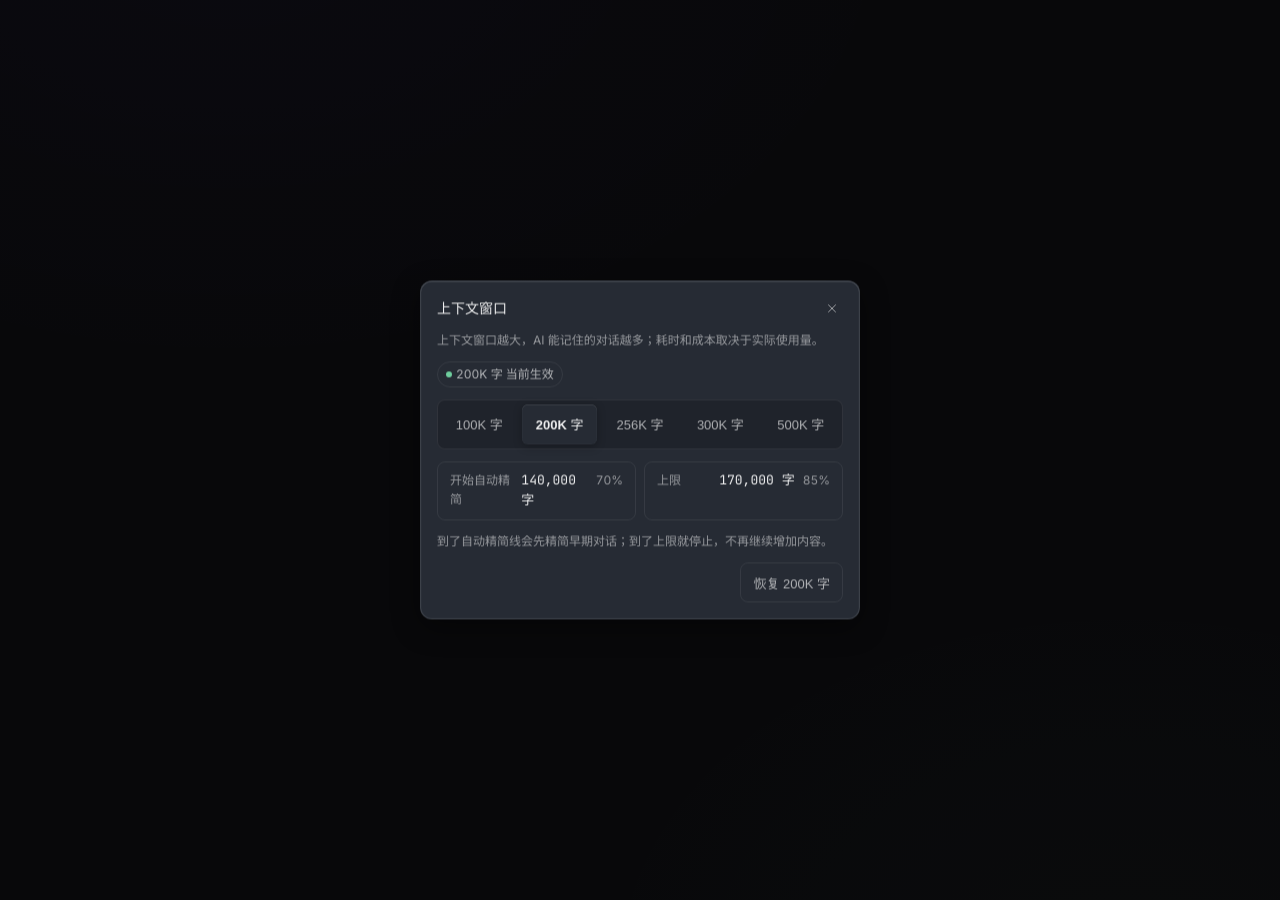
Test case: ContextWindowPanel 挡位选择器（效果图 01） › 点另一挡 → PATCH 该 token 数，回执即新选中态
Step 1. Click the radio button with class "ctx-window-choice" showing "500K 字" → (801, 424), box [764,404,838,444]
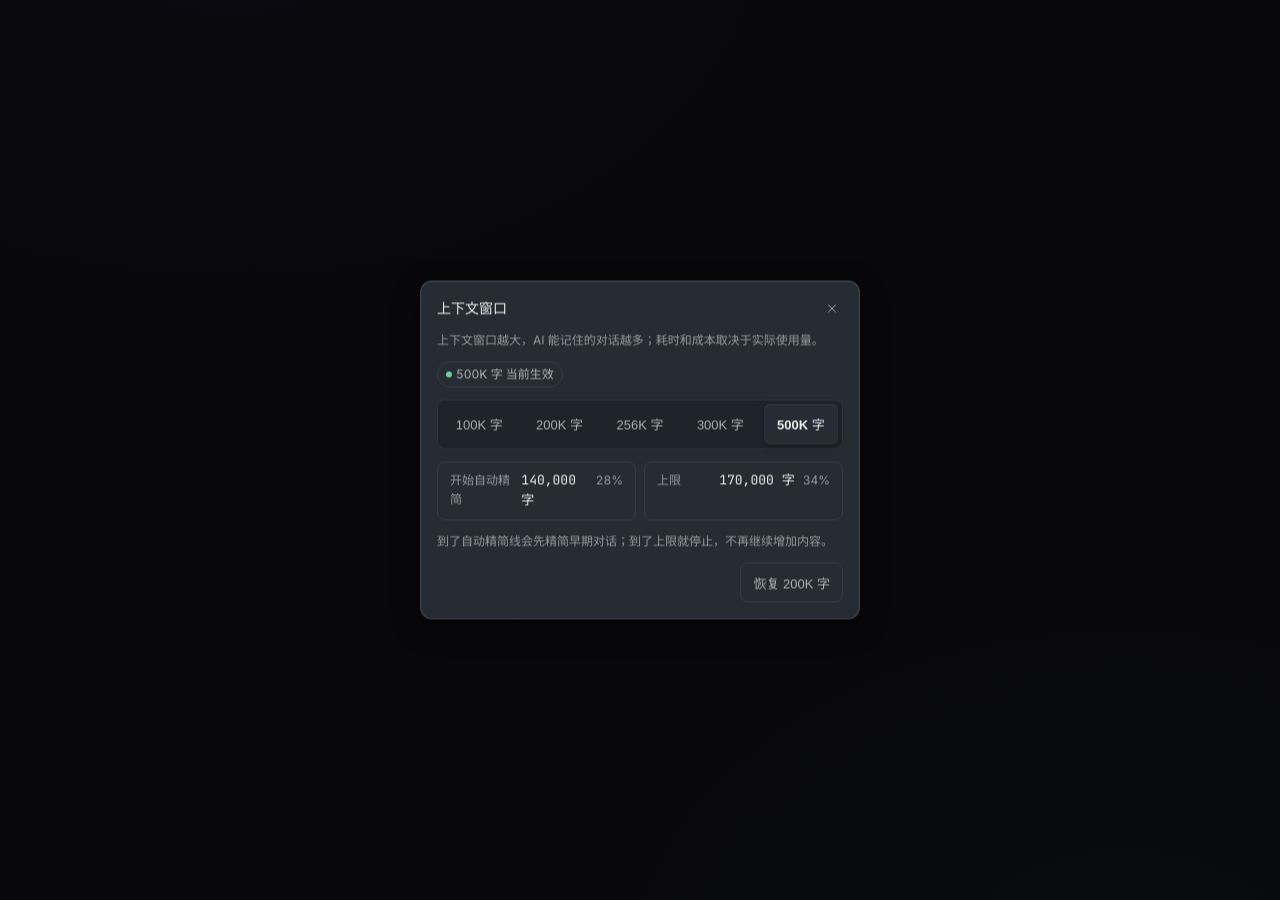
Now the text with class "ctx-window-badge" reads "500K 字 当前生效", box [437,362,563,387]
